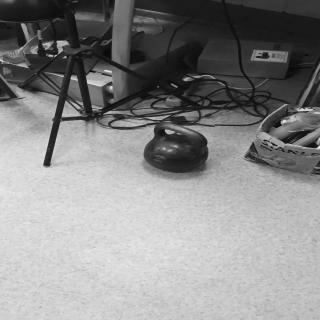kettlebell: (143, 123, 214, 174)
